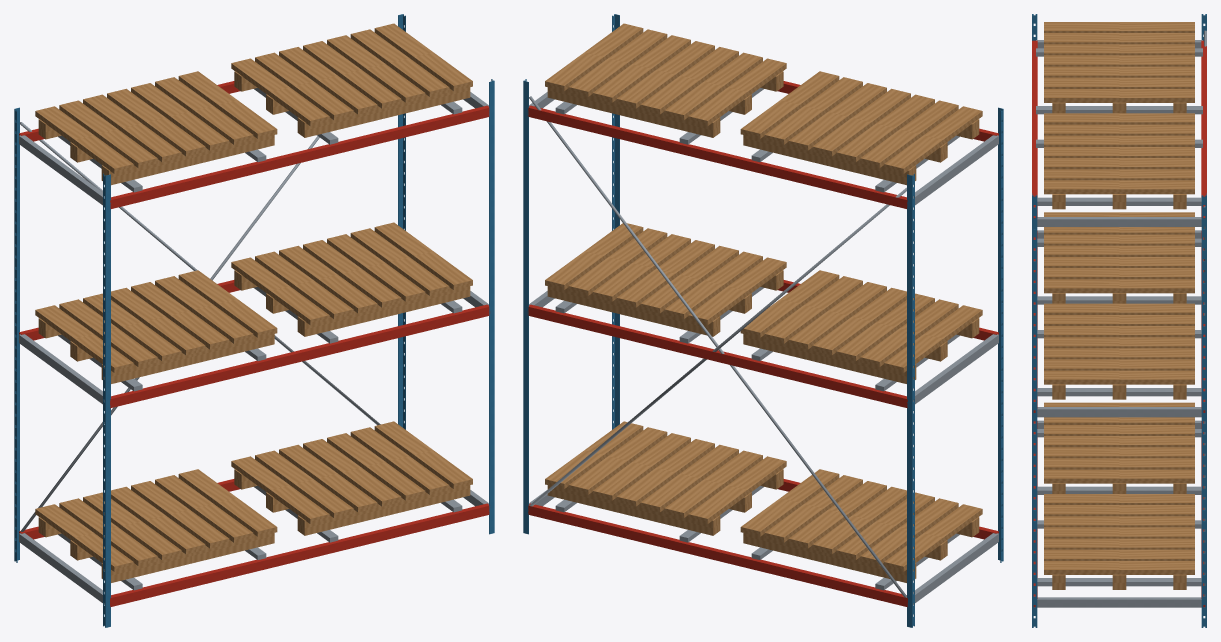
The model's file is rack.glb.
3 renders of one model, left to right at view 1: azimuth 30°, elevation 25°; view 2: azimuth 150°, elevation 25°; view 3: azimuth 270°, elevation 25°, orthographic. The views are drawn at different scales.
Visible parts, largest first — view 1: Shelf crossbeam, Shelf crossbeam.002, Shelf crossbeam.004, Angle post return.002, Angle post return, Pallet deck board.007, Pallet deck board.021, Pallet deck board.028, Pallet deck board.035, Pallet bearer.015, Pallet bearer.009, Pallet bearer.003 (+51 smaller); view 2: Shelf crossbeam.001, Shelf crossbeam.003, Shelf crossbeam.005, Angle post return.003, Angle post return.001, Pallet deck board.007, Rear diagonal brace, Pallet deck board.028, Pallet deck board.035, Pallet bearer.017, Pallet deck board.021, Pallet bearer.005 (+51 smaller); view 3: Pallet deck board.006, Pallet deck board.027, Pallet deck board.020, Pallet deck board.041, Pallet deck board.013, Pallet deck board.034, Shelf depth beam.001, Shelf depth beam.003, Pallet deck board.003, Pallet deck board.004, Pallet deck board.005, Pallet deck board.008 (+47 smaller).
Boxes of the visible parts, x1=… form: Shelf crossbeam: x1=110, y1=503, x2=489, y2=607; Shelf crossbeam.002: x1=110, y1=304, x2=489, y2=408; Shelf crossbeam.004: x1=110, y1=105, x2=489, y2=208; Angle post return.002: x1=489, y1=81, x2=494, y2=534; Angle post return: x1=106, y1=174, x2=110, y2=627; Pallet deck board.007: x1=231, y1=456, x2=329, y2=523; Pallet deck board.021: x1=231, y1=257, x2=329, y2=324; Pallet deck board.028: x1=35, y1=106, x2=133, y2=173; Pallet deck board.035: x1=231, y1=58, x2=329, y2=126; Pallet bearer.015: x1=297, y1=87, x2=470, y2=137; Pallet bearer.009: x1=297, y1=286, x2=470, y2=336; Pallet bearer.003: x1=297, y1=485, x2=470, y2=535; Shelf crossbeam.001: x1=528, y1=503, x2=907, y2=607; Shelf crossbeam.003: x1=527, y1=304, x2=907, y2=408; Shelf crossbeam.005: x1=528, y1=105, x2=907, y2=208; Angle post return.003: x1=523, y1=81, x2=528, y2=534; Angle post return.001: x1=907, y1=174, x2=911, y2=627; Pallet deck board.007: x1=688, y1=456, x2=786, y2=523; Rear diagonal brace: x1=529, y1=96, x2=906, y2=597; Pallet deck board.028: x1=884, y1=106, x2=982, y2=173; Pallet deck board.035: x1=688, y1=58, x2=786, y2=126; Pallet bearer.017: x1=547, y1=87, x2=720, y2=137; Pallet deck board.021: x1=688, y1=257, x2=786, y2=324; Pallet bearer.005: x1=547, y1=485, x2=720, y2=535; Pallet deck board.006: x1=1044, y1=469, x2=1194, y2=483; Pallet deck board.027: x1=1044, y1=370, x2=1194, y2=384; Pallet deck board.020: x1=1044, y1=279, x2=1194, y2=293; Pallet deck board.041: x1=1044, y1=180, x2=1194, y2=194; Pallet deck board.013: x1=1044, y1=561, x2=1194, y2=574; Pallet deck board.034: x1=1044, y1=89, x2=1194, y2=102; Shelf depth beam.001: x1=1037, y1=597, x2=1201, y2=607; Shelf depth beam.003: x1=1037, y1=407, x2=1201, y2=417; Pallet deck board.003: x1=1044, y1=436, x2=1194, y2=447; Pallet deck board.004: x1=1044, y1=447, x2=1194, y2=458; Pallet deck board.005: x1=1044, y1=458, x2=1194, y2=469; Pallet deck board.008: x1=1044, y1=505, x2=1194, y2=516.
Bounding box in the file's own units: 2.7 × 3 × 1.1.
4 materials, 4 textured.
